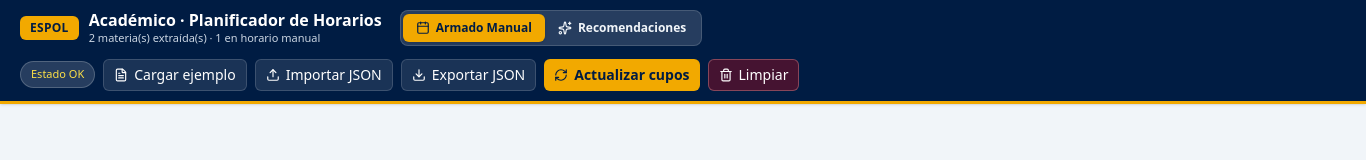
Test: Planner UI components › renders PlannerHeader, handles clear confirmation timeout/blur, and file import
Later steps or results of the test are not shown.
Check: the text "Estado OK" is shown, box left=20, top=61, right=95, bottom=88
Click the button "Limpiar": point(753, 74) left=708, top=58, right=799, bottom=90
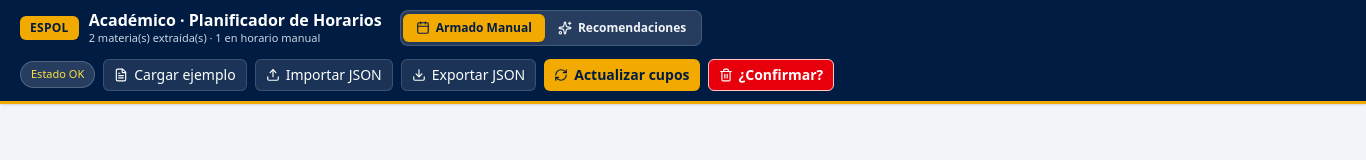
Check: the button "¿Confirmar?" is shown
Click the button "¿Confirmar?": point(771, 74) left=708, top=58, right=834, bottom=90
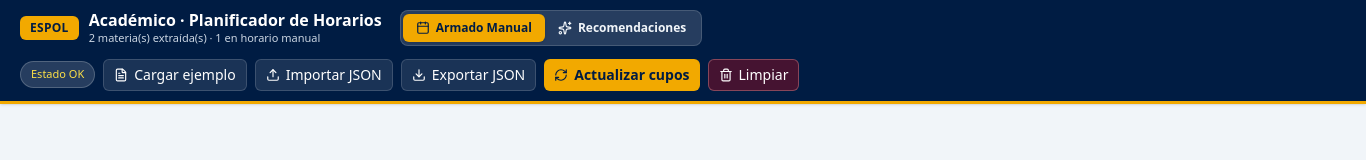
Click the button "Limpiar": point(753, 74) left=708, top=58, right=799, bottom=90
Check: the button "Limpiar" is shown
Click the button "Limpiar": point(753, 74) left=708, top=58, right=799, bottom=90
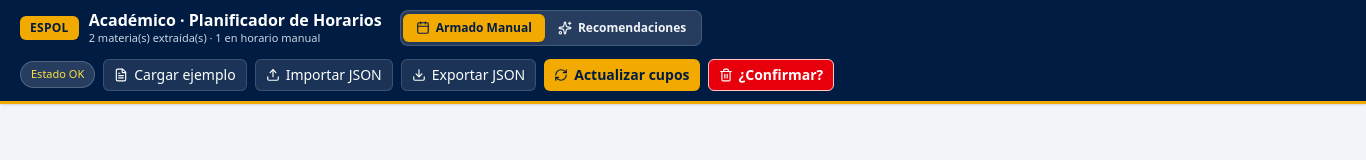
Leave the button "¿Confirmar?", box left=708, top=58, right=834, bottom=90
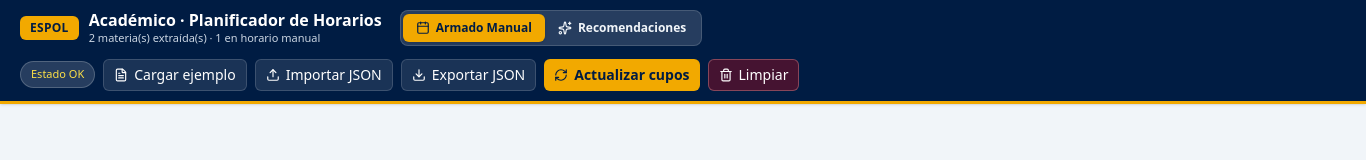
Check: the button "Limpiar" is shown, box left=708, top=58, right=799, bottom=90
